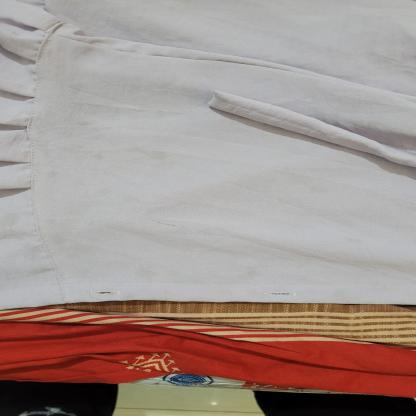spot: (130, 147, 178, 162), (82, 149, 113, 160), (91, 185, 113, 198)
